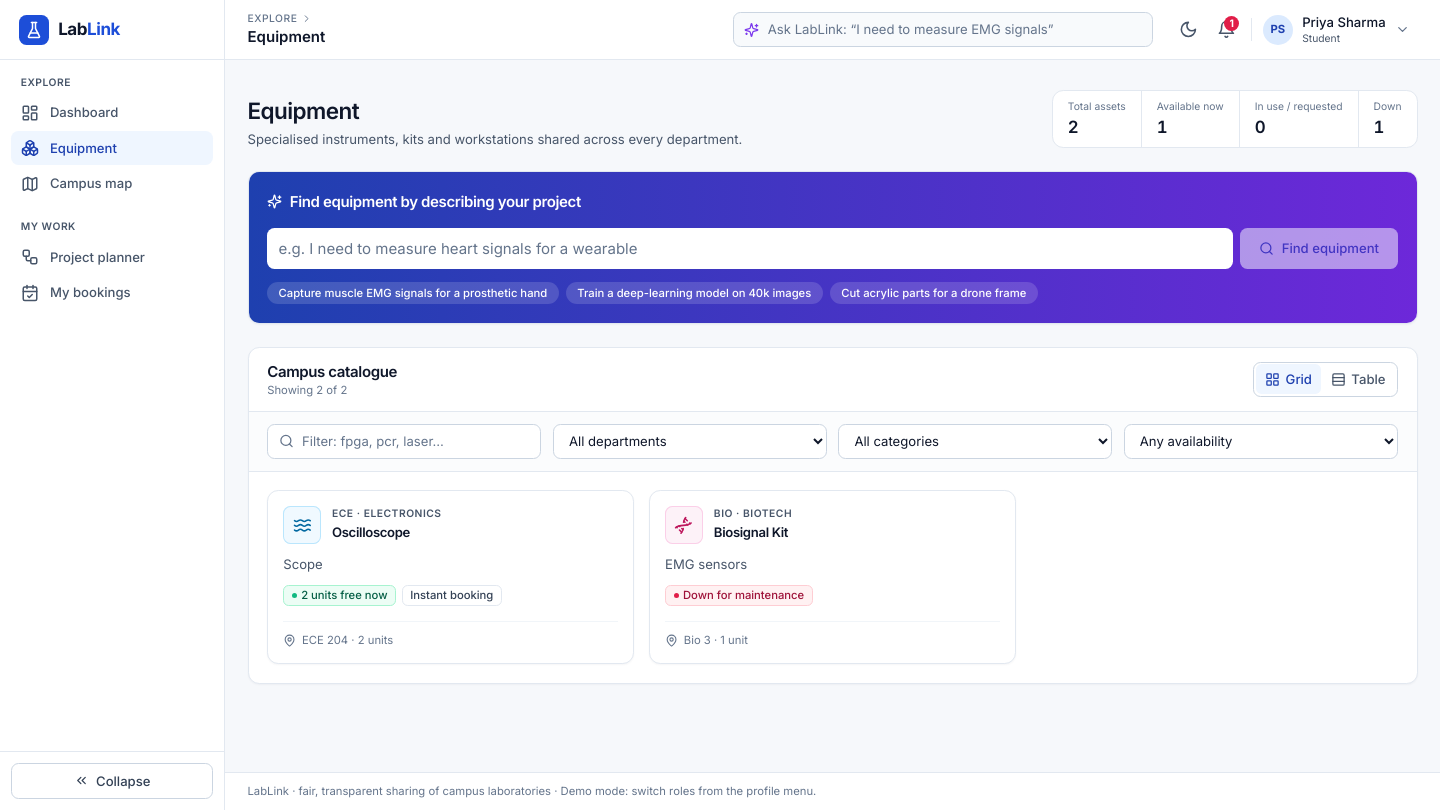
equipment catalogue › shows AI matches with reasons and provenance
Type "muscle signals" into the search field named "Describe what you need" at (750, 249), box [267,228,1233,269]
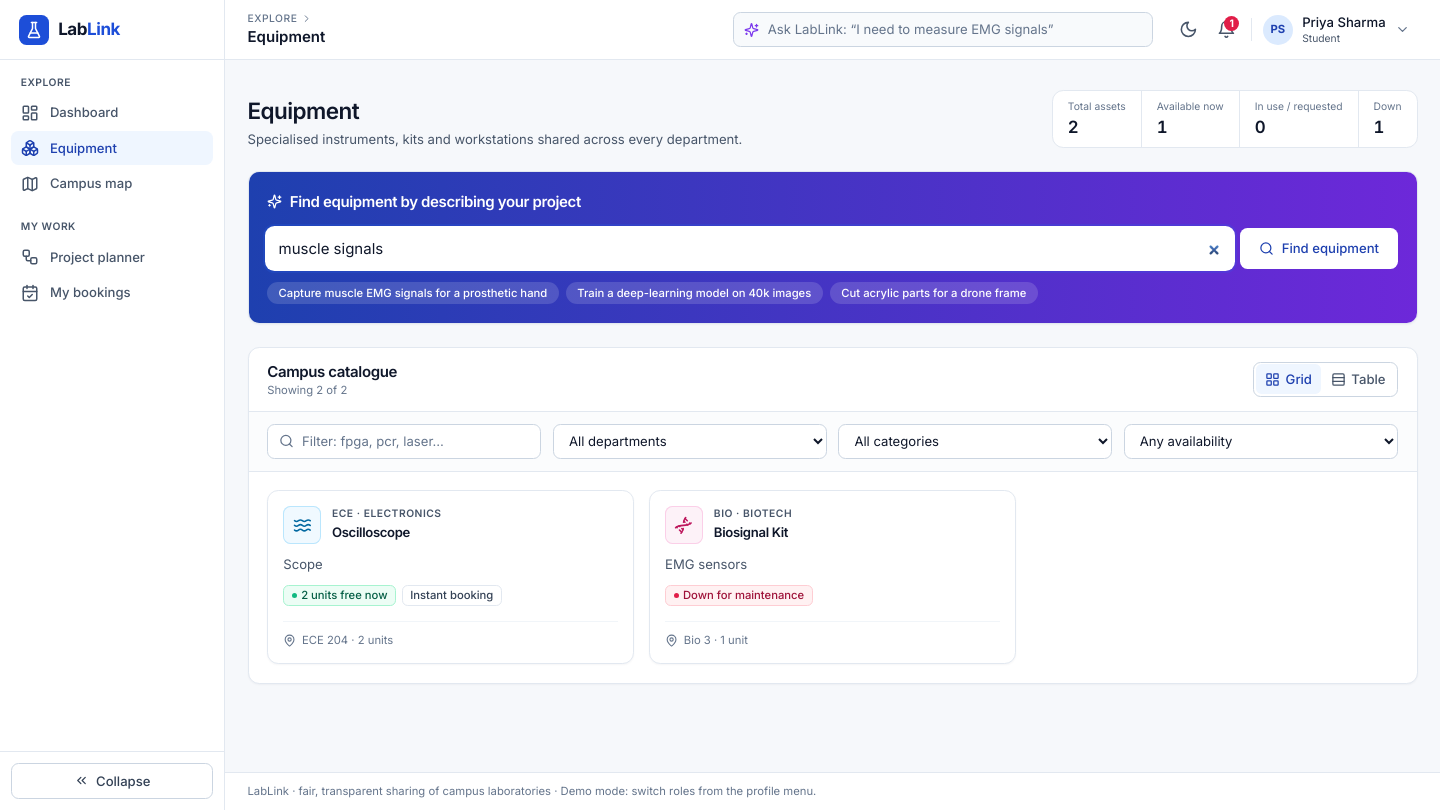
Click the button "Find equipment" at (1319, 249), box [1240,228,1398,269]
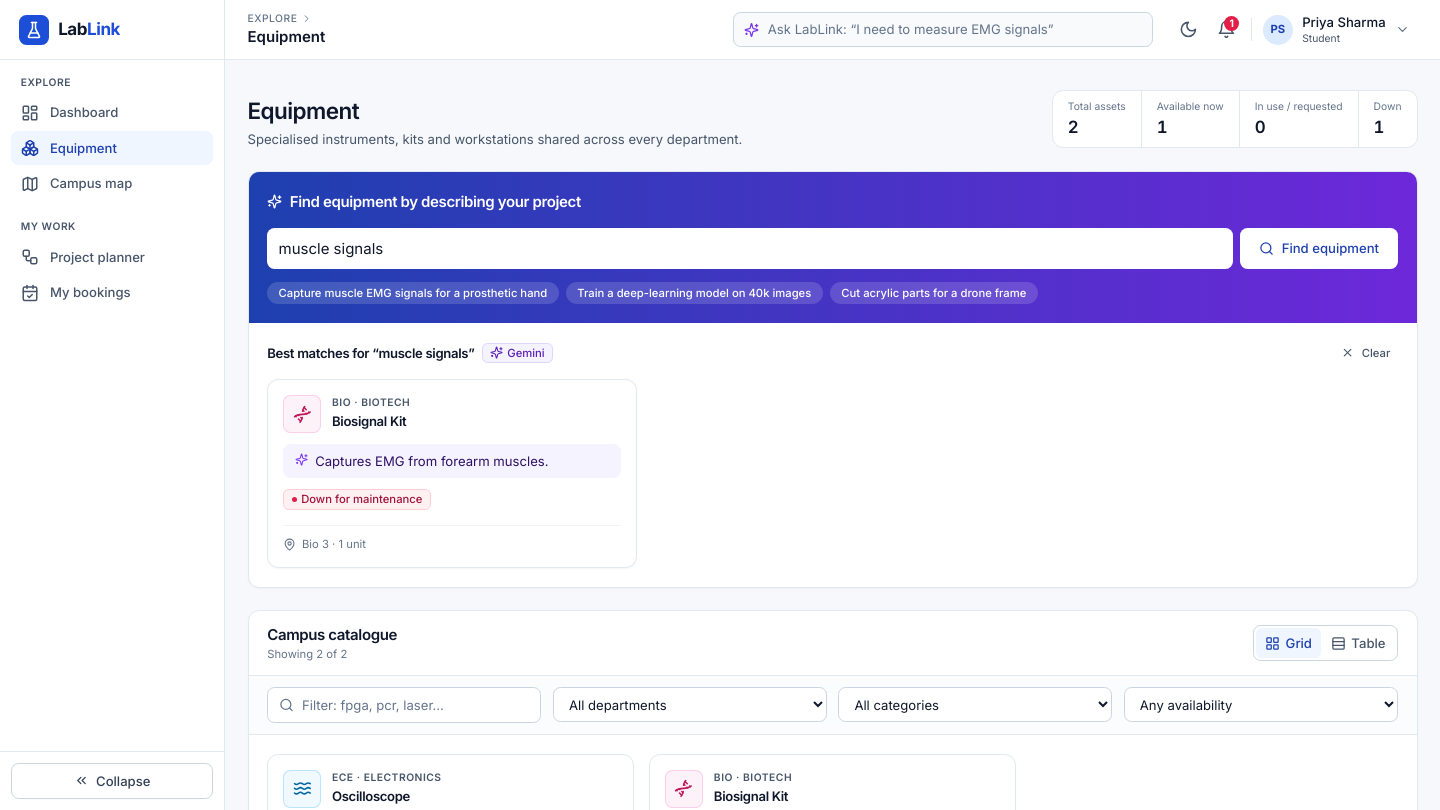
Now the text "Captures EMG from forearm muscles." is shown, box [283,444,621,478]
Now the text "Gemini" is shown, box [482,343,553,363]
